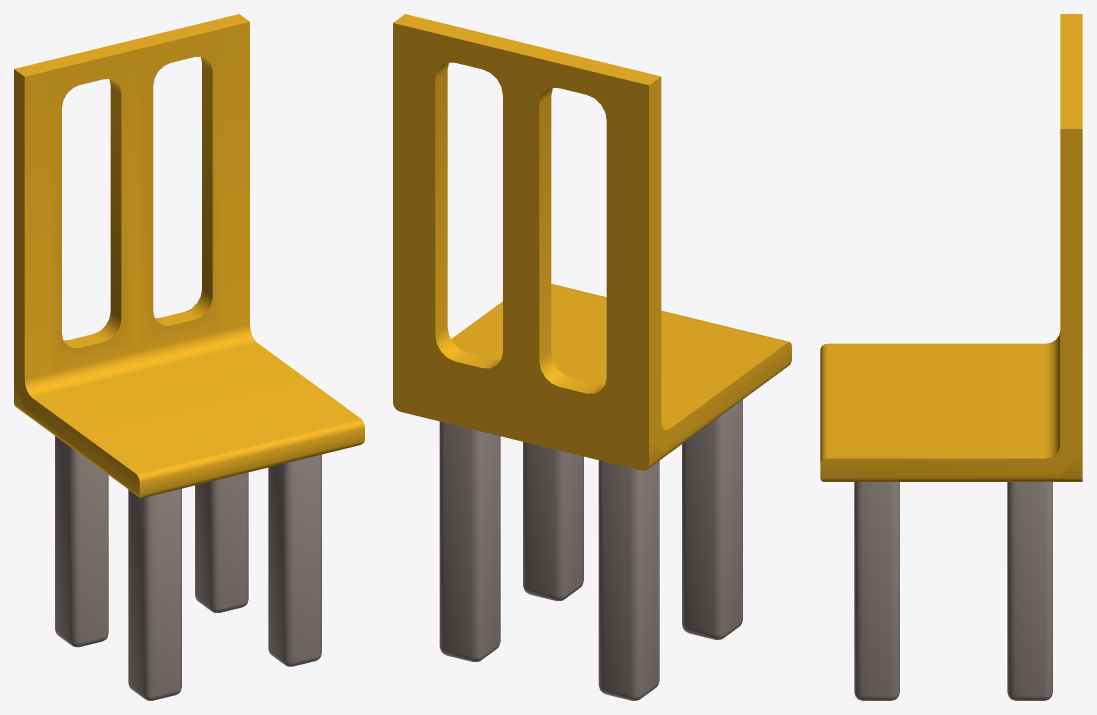
Rendered from chair.fbx.
The picture shows the model from 3 angles, left to right: view 1: azimuth 30°, elevation 25°; view 2: azimuth 150°, elevation 25°; view 3: azimuth 270°, elevation 25°; orthographic projection. The views are drawn at different scales.
Visible parts, largest first — view 1: ChairExport; view 2: ChairExport; view 3: ChairExport.
Boxes of the visible parts, x1,y1,x2,y2 form: ChairExport: [14, 14, 364, 700]; ChairExport: [393, 14, 791, 700]; ChairExport: [820, 14, 1082, 700].
Size of the model in its own units: 1084 by 2583 by 1047.
